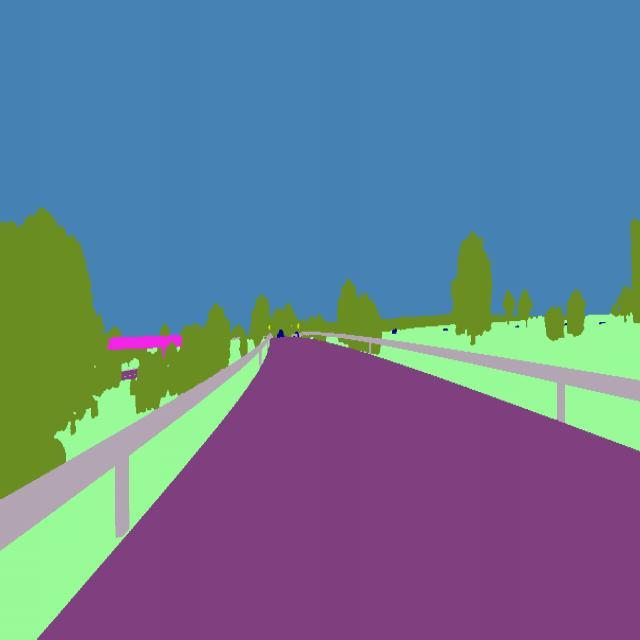safe: (274, 327, 286, 340)
